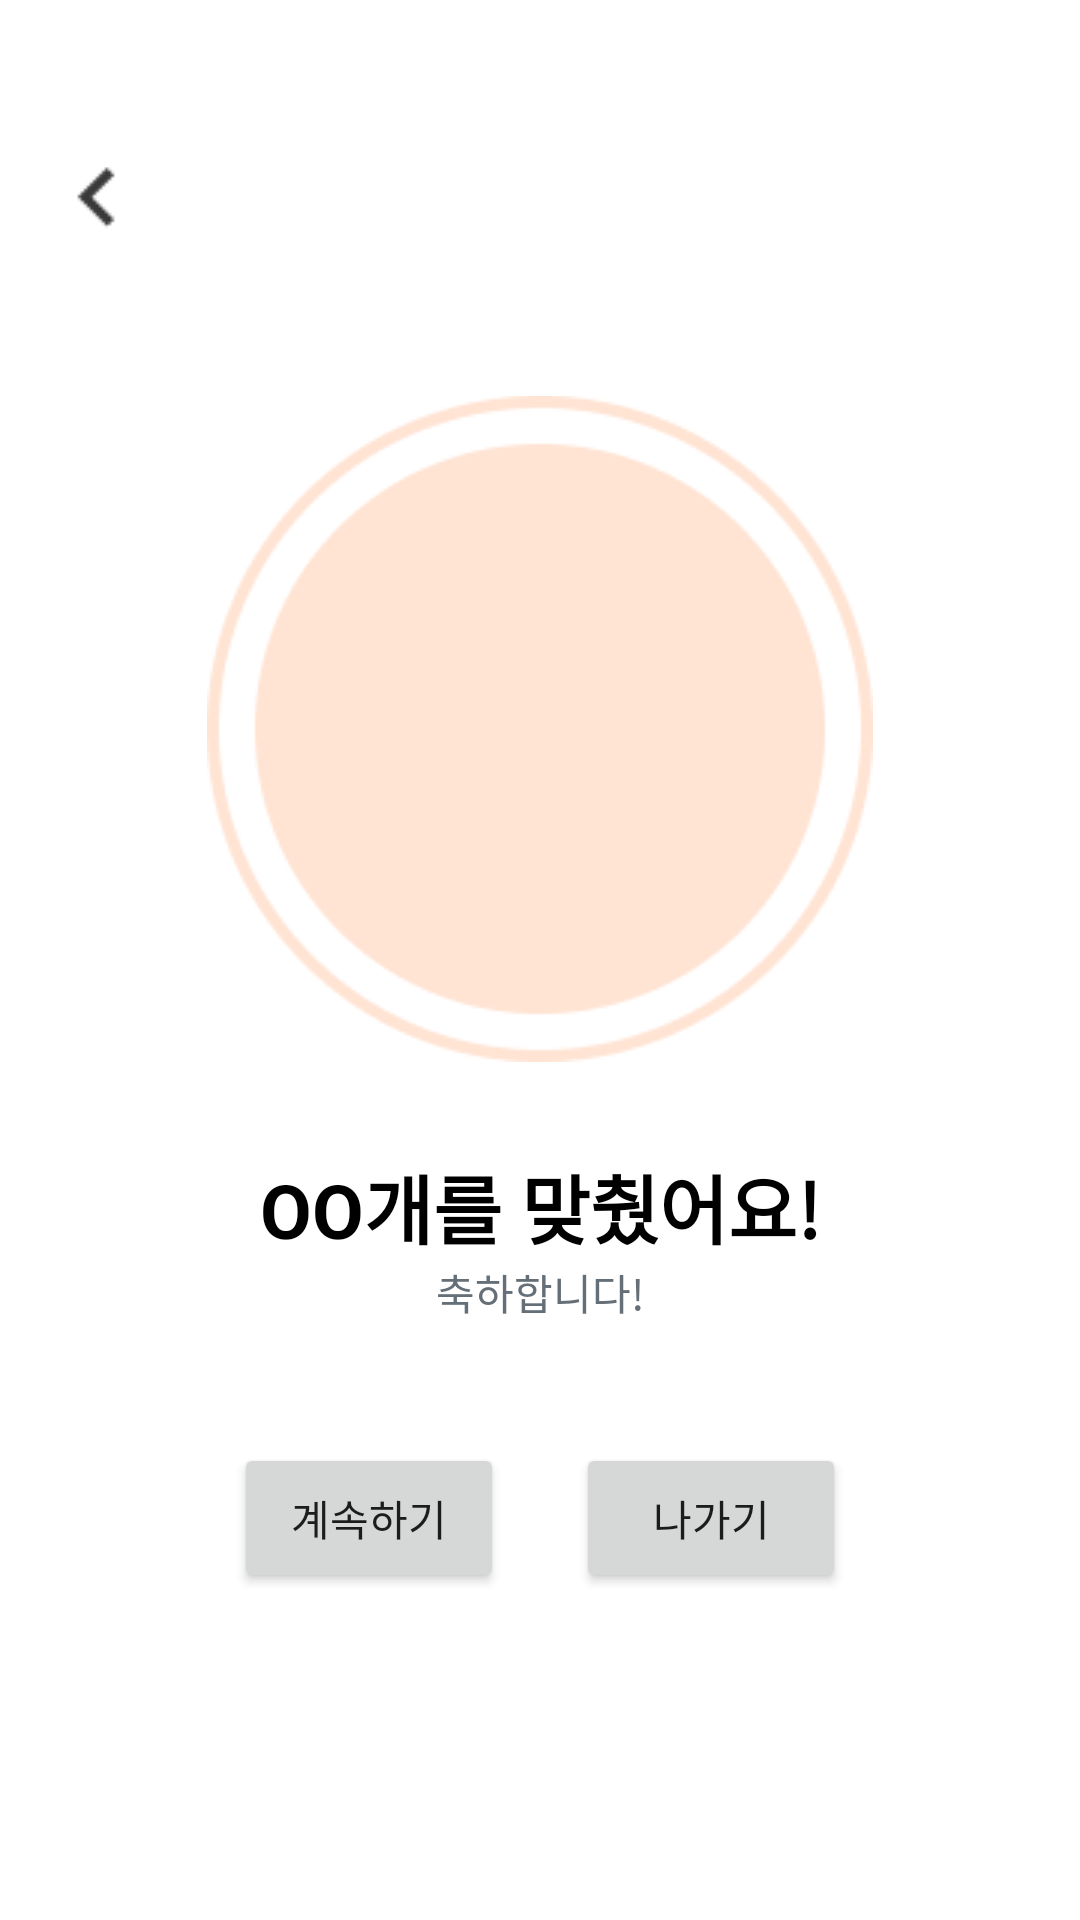

Icons on this 1080 × 1920 Android screen, each with its box as (x1, y1, x2, y2):
left arrow: (77, 167, 115, 227)
